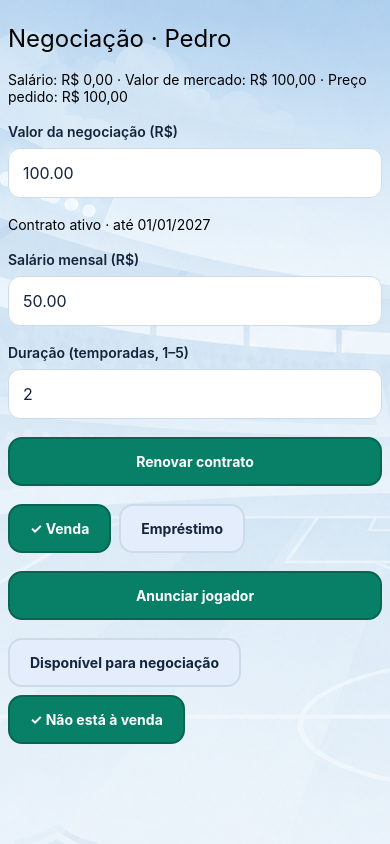
Scenario: rejects invalid duration and displays financial rejection
Expected: the text "Renovar contrato" is shown, [136,453,254,470]
Replace the text in the field named "Duração (temporadas, 1–5)" with "6": point(195, 394) [8,369,382,419]
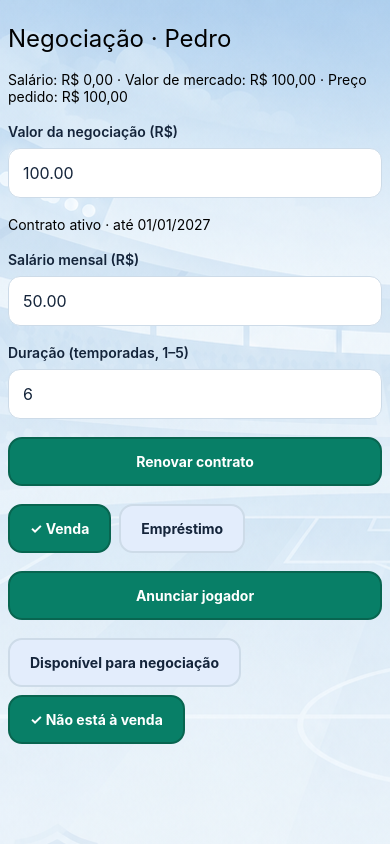
Click the button "Renovar contrato": point(195, 462) [8,437,382,486]
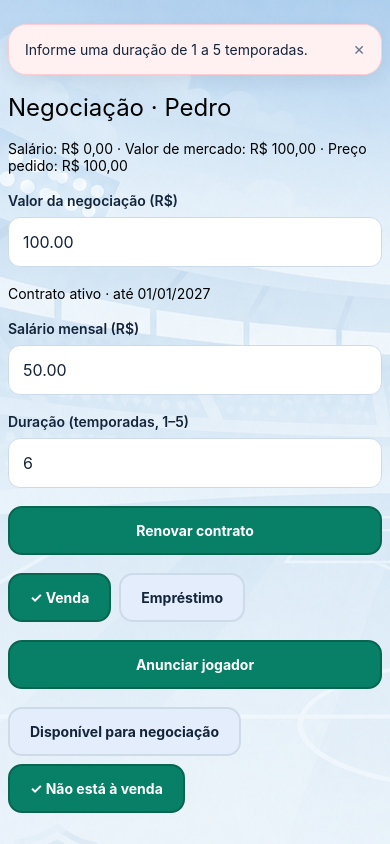
Now the text "Informe uma duração de 1 a 5 temporadas." is shown, box [25,41,341,58]
Replace the text in the field named "Duração (temporadas, 1–5)" with "2": point(195, 463) [8,438,382,488]
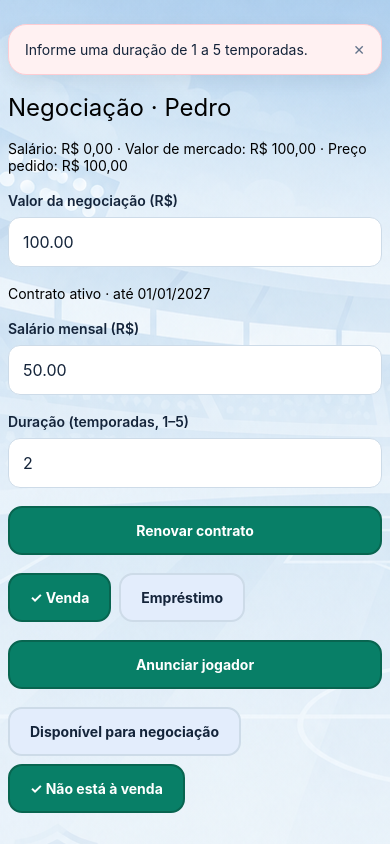
Click the button "Renovar contrato": point(195, 530) [8,506,382,555]
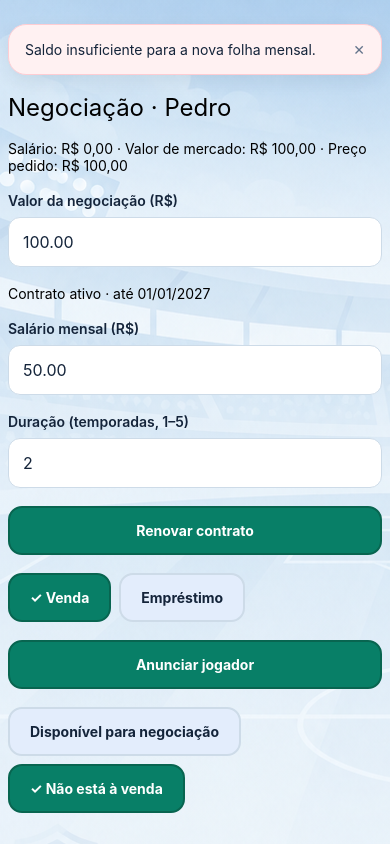
Now the text "Saldo insuficiente para a nova folha mensal." is shown, box [25,41,341,58]
